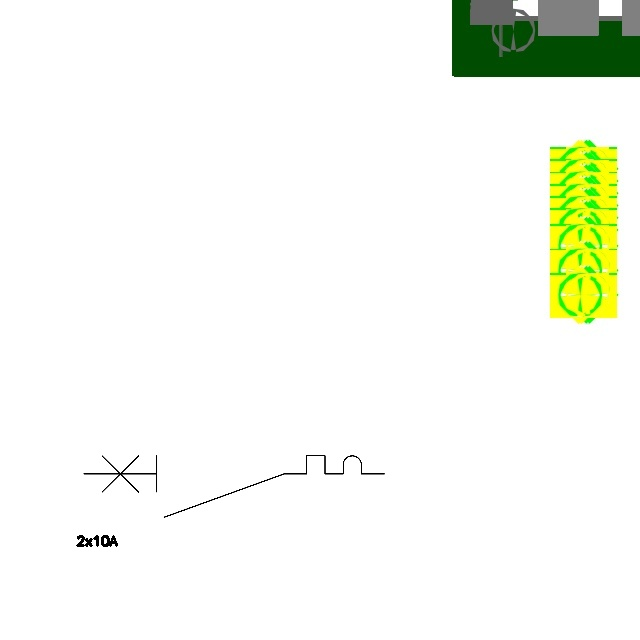interruptor_termomagnetico: (76, 448, 392, 525)
